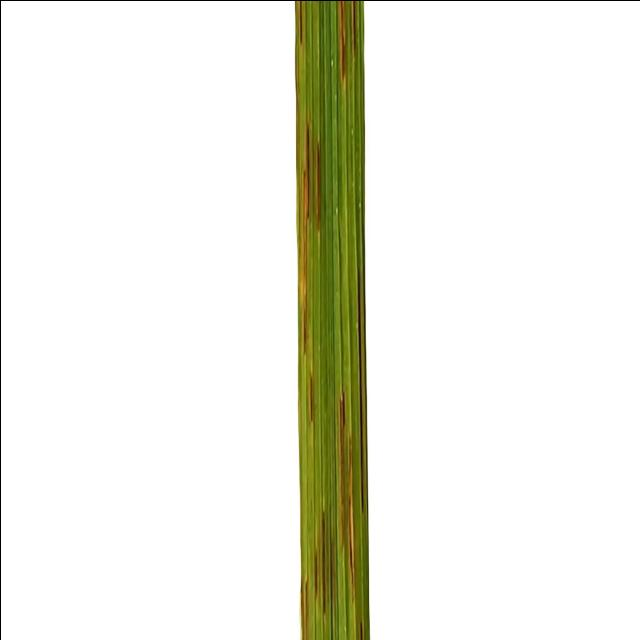Narrow brown: (230, 0, 509, 640)
